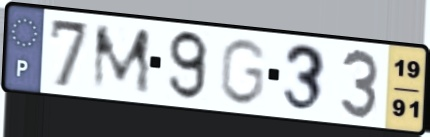3: (280, 41, 332, 116), (337, 47, 382, 122)
7: (47, 16, 91, 90)
9: (165, 28, 212, 104)
G: (216, 36, 270, 108)
M: (89, 23, 153, 96)
